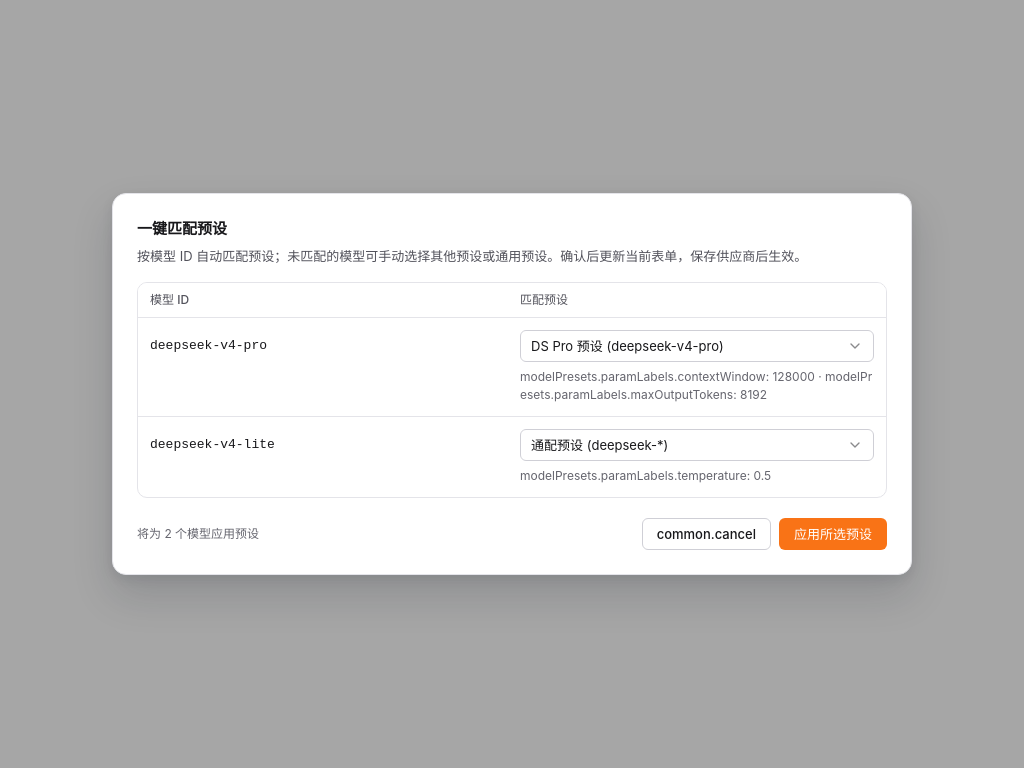
DshModelPresetMatchDialog › 手动改选回「未匹配」后该行不被修改
Later steps or results of the test are not shown.
Click the dropdown labelled "DS Pro 预设 (deepseek-v4-pro)" at (697, 346), box [520,330,874,362]
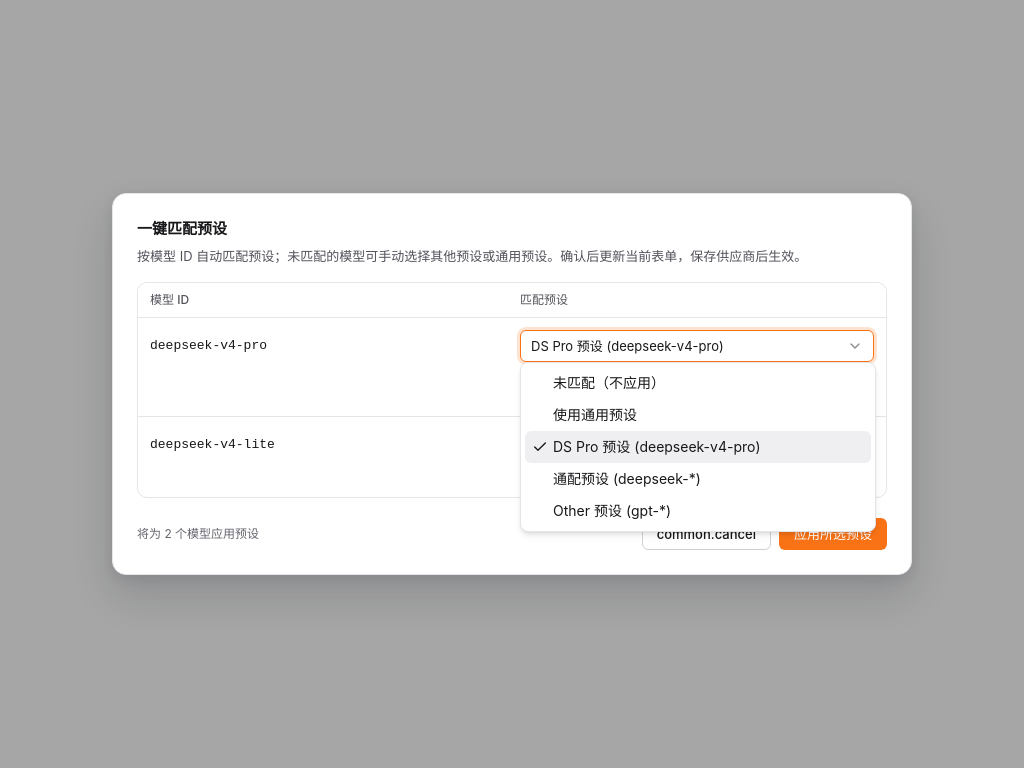
Click the option "未匹配（不应用）" at (609, 382), box [553,374,665,391]
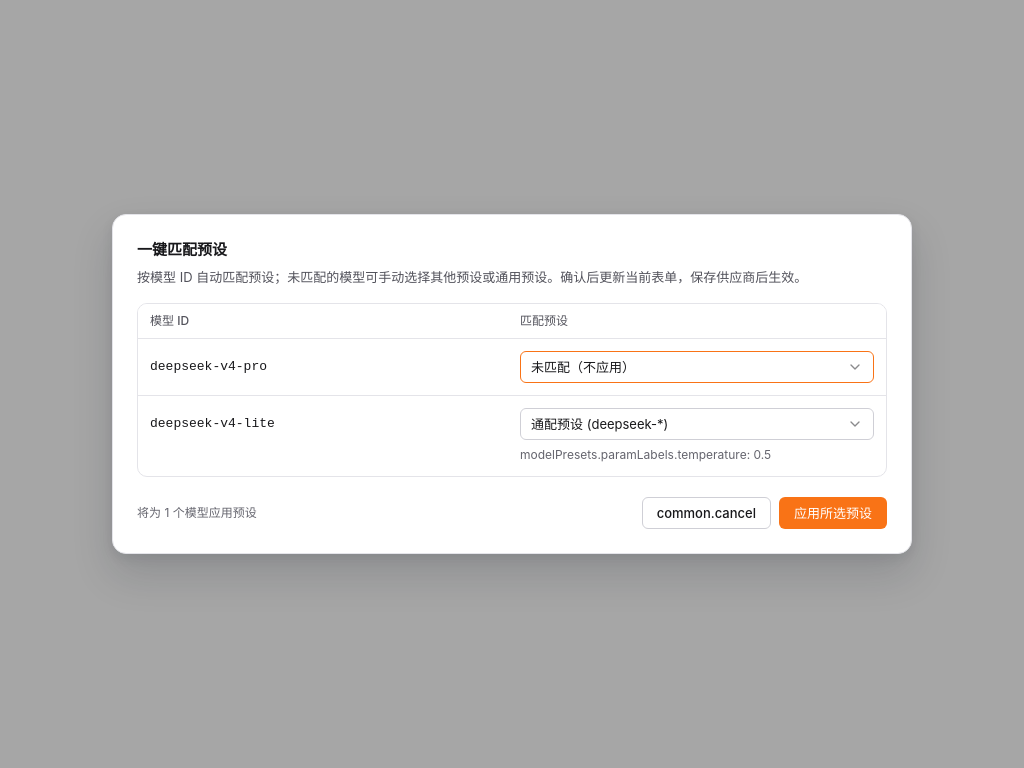
Expected: the text "将为 1 个模型应用预设" is shown, [137,504,257,522]
